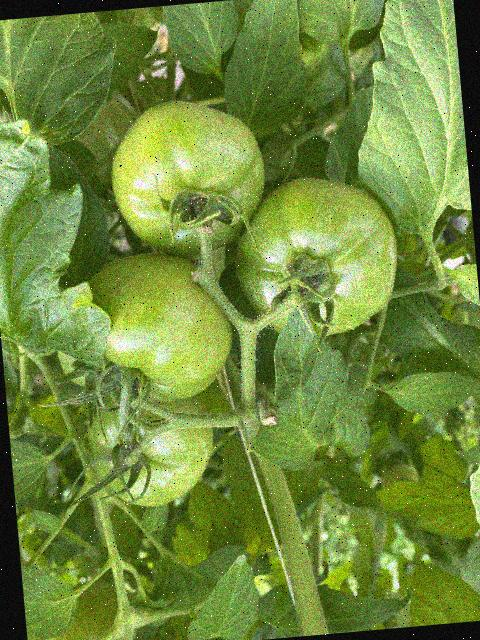l_green: (227, 168, 404, 342), (104, 94, 270, 260), (79, 248, 237, 409), (83, 376, 218, 512)
